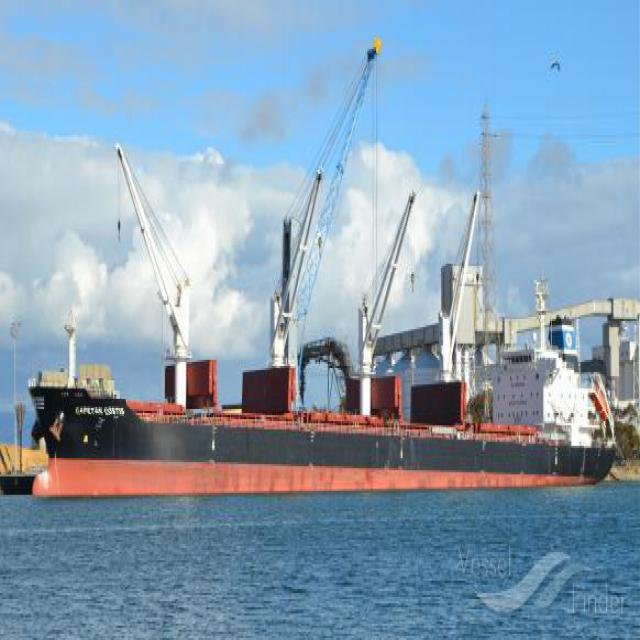OCR: (70, 399, 126, 431)
